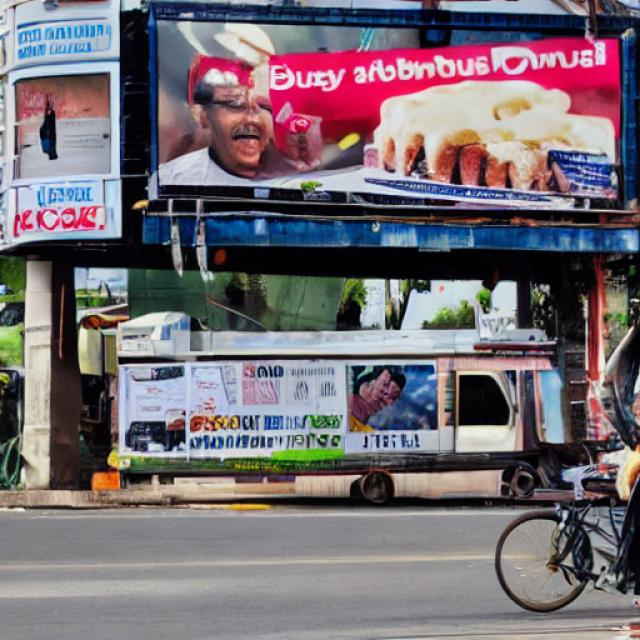Billboard: (148, 12, 632, 218)
